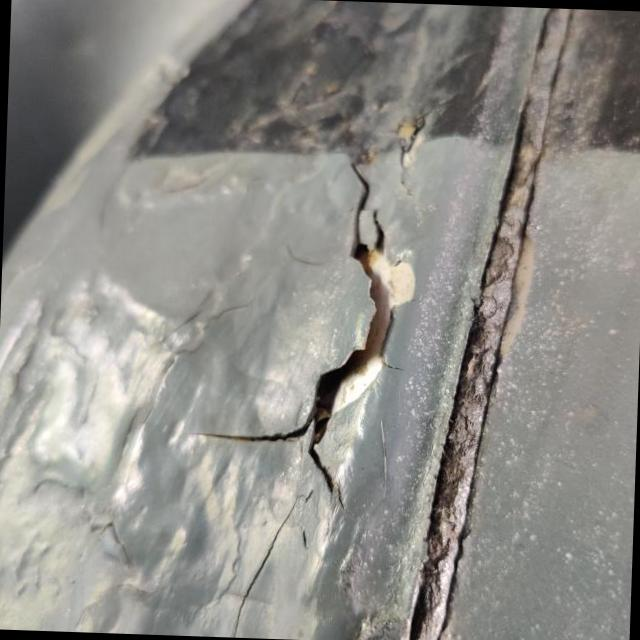Crack: (190, 162, 415, 503)
